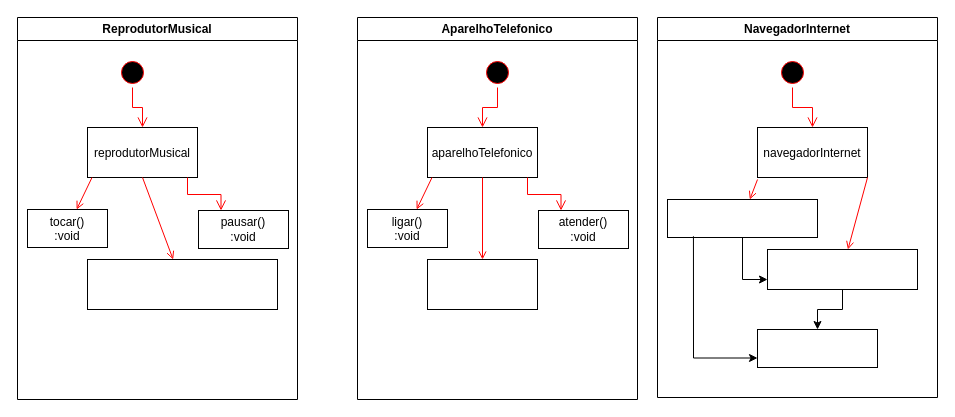
Image size: 955x417. Some labels were removed from this diagram. Each missing label, with the centre of its shape:
"addNovaAba( String url) :void" belongs at [842,269].
"atualizarPagina() :void" belongs at [817,348].
"correioVoz() :void" belongs at [482,284].
"exibirPagina(String url) :void" belongs at [742,218].
"selecionarMusica( String musica) :void" belongs at [182,284].
